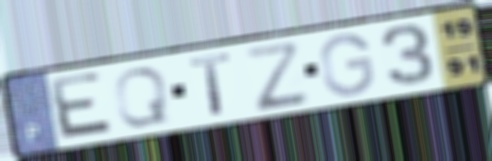3: (376, 23, 438, 88)
E: (49, 69, 119, 142)
G: (318, 31, 378, 99)
Q: (111, 65, 173, 129)
T: (186, 50, 236, 118)
Z: (240, 39, 313, 114)
